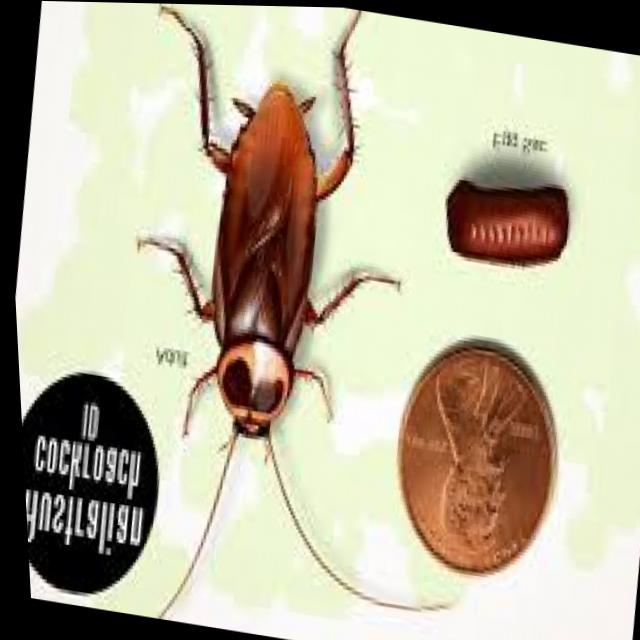Cockroach: (73, 1, 489, 640)
